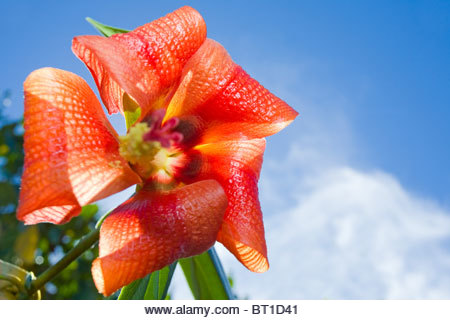Hibiscus: (19, 8, 308, 294)
